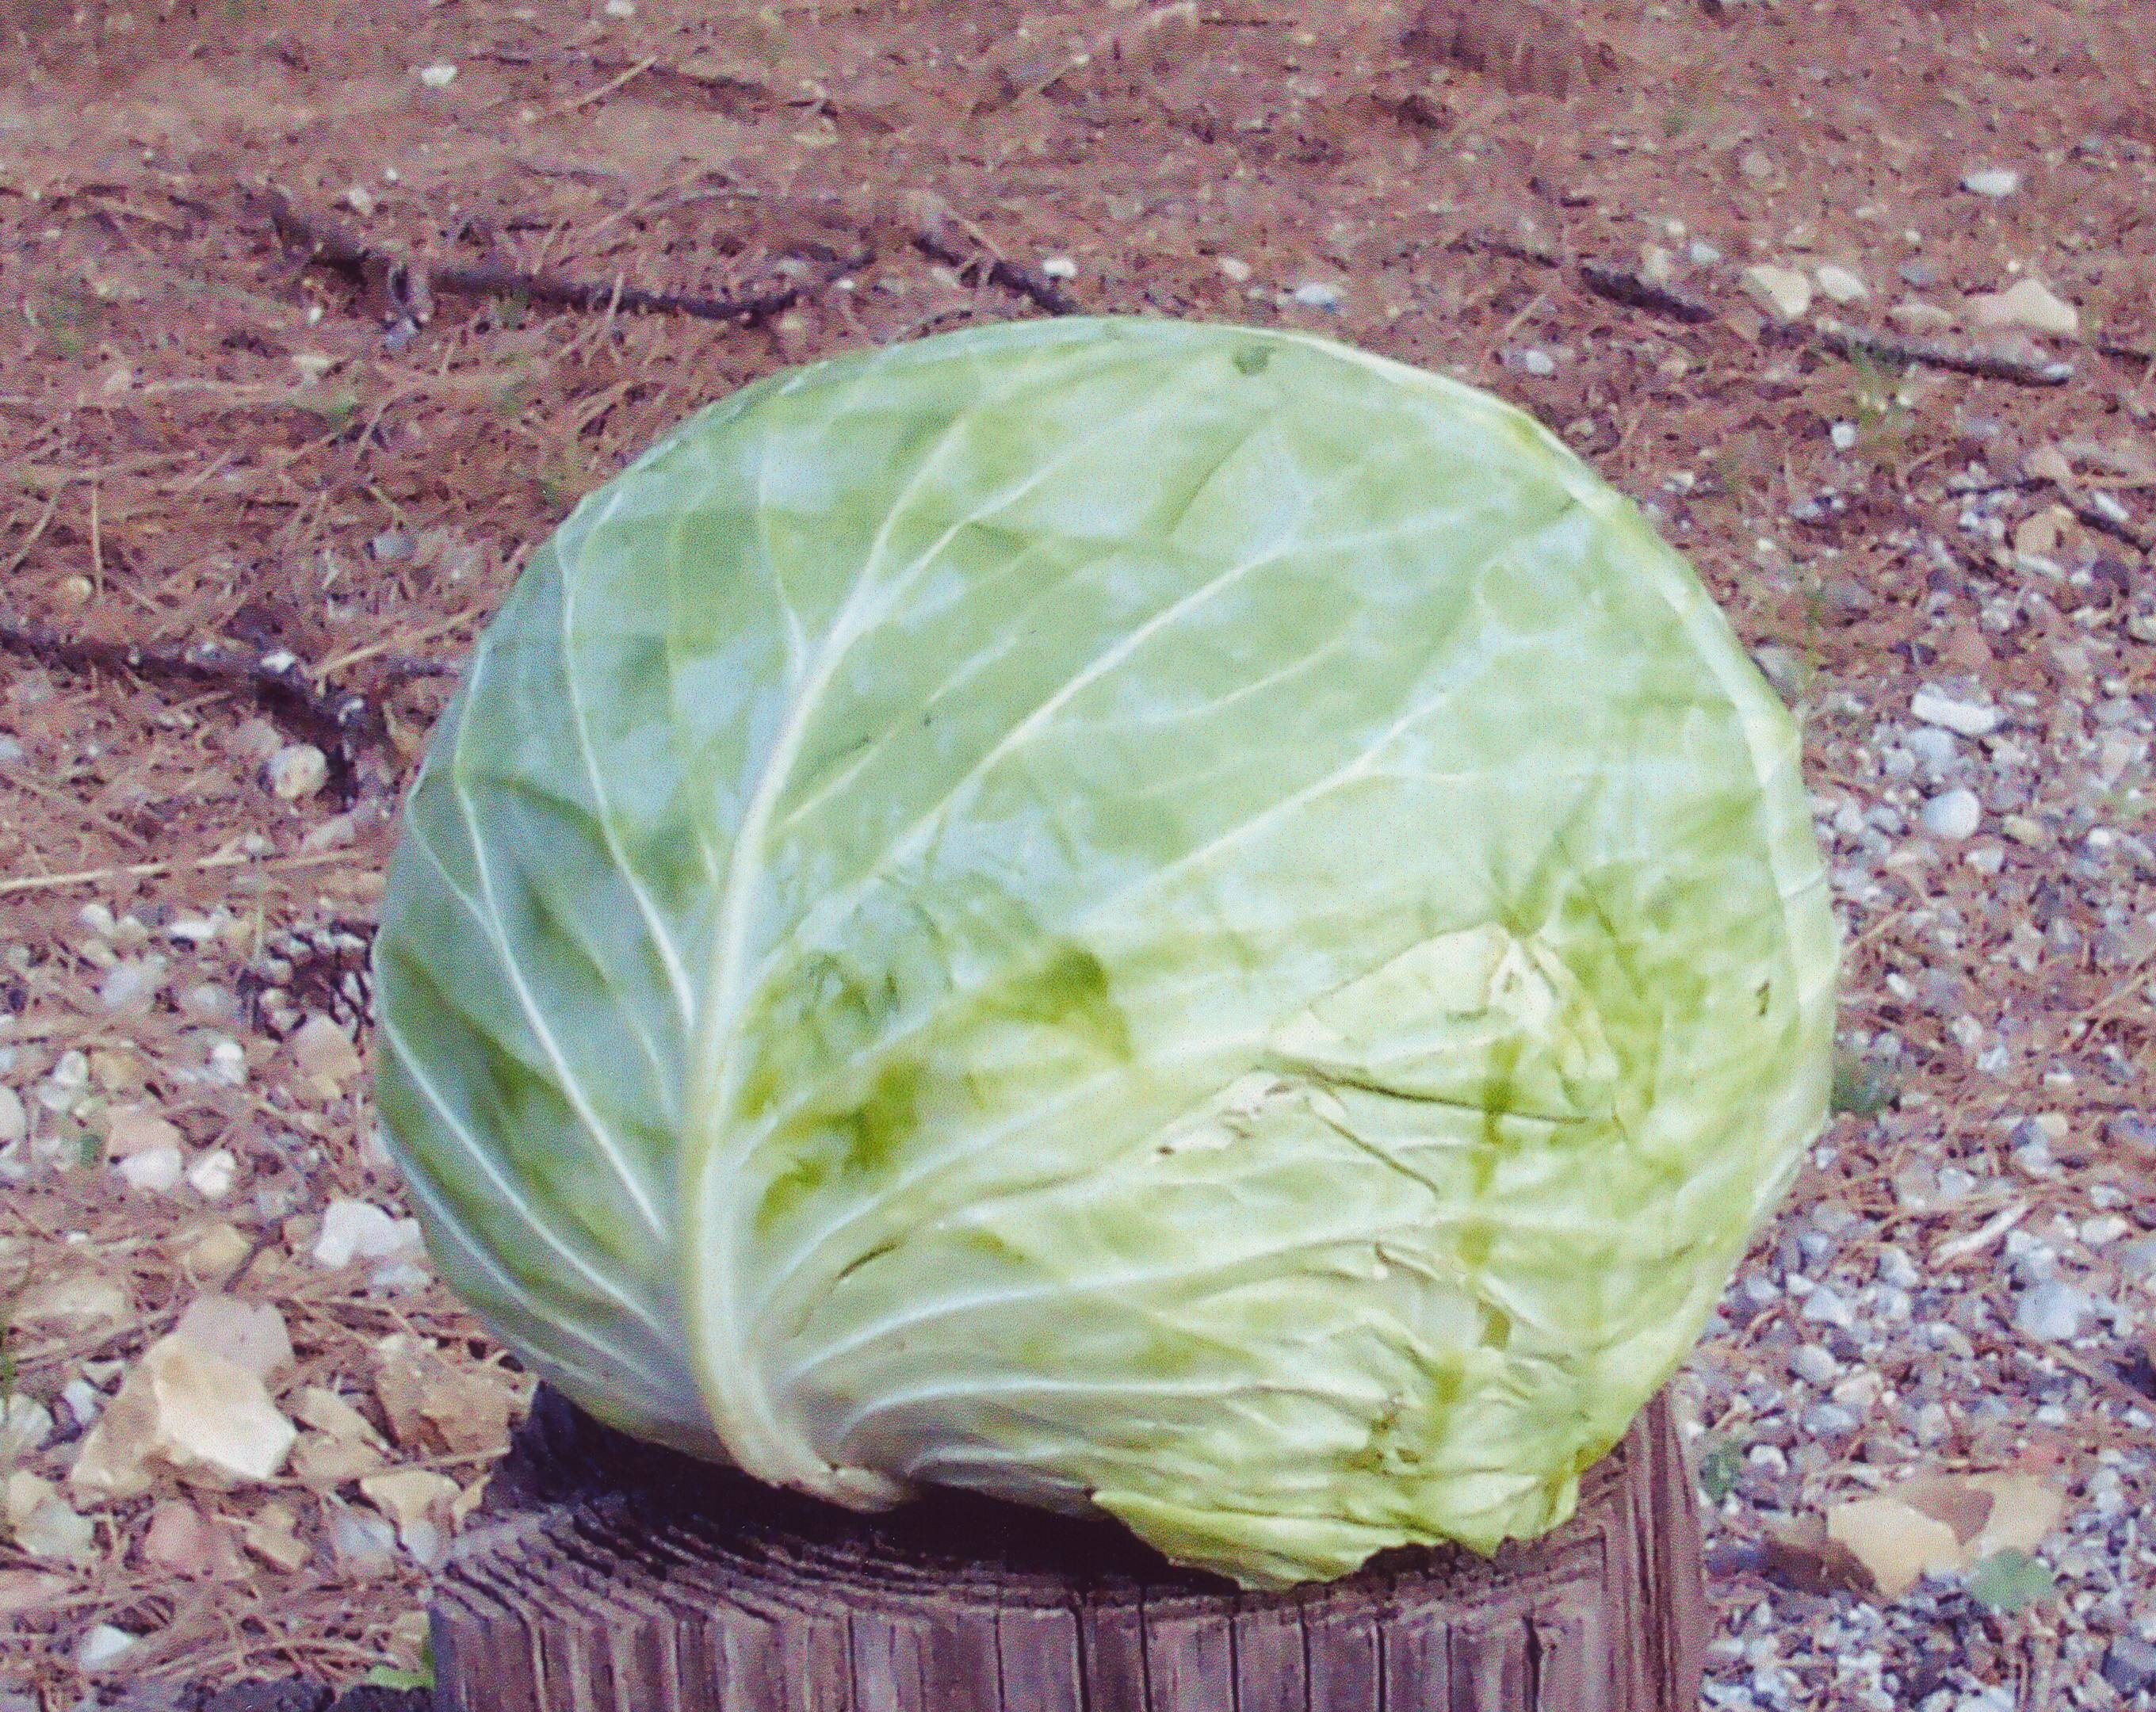cabbage: (369, 317, 1846, 1596)
